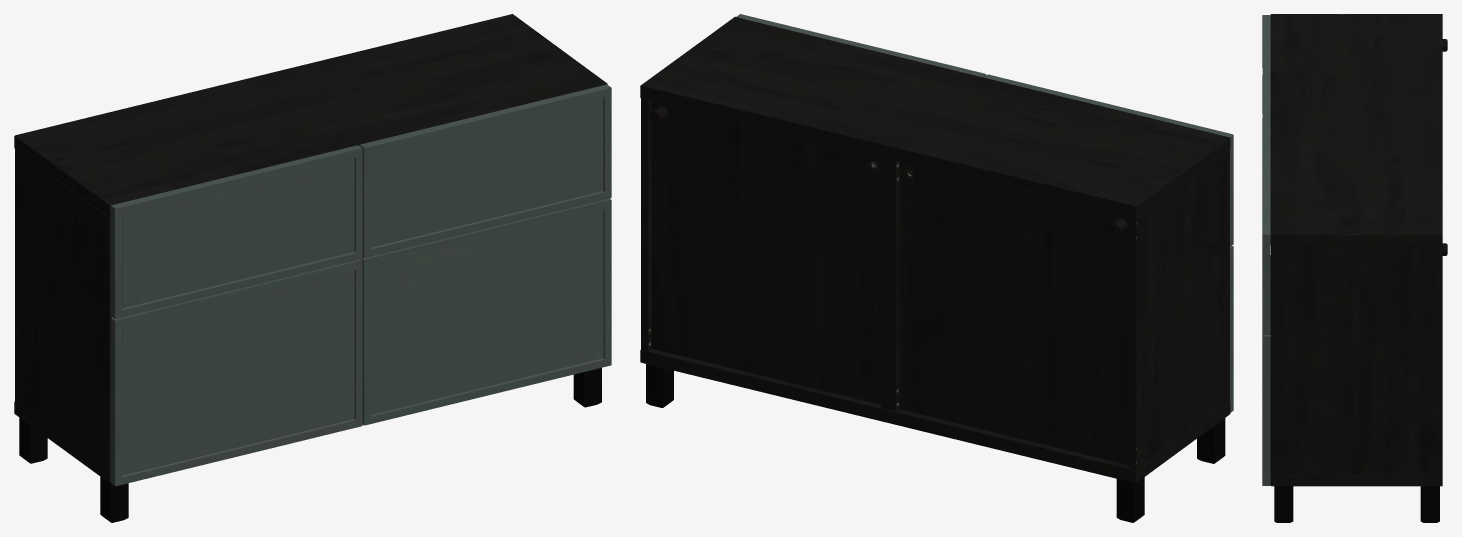
Rendered from 19 - BESTÅ Storage combination w doorsdrawers - black-brownKrukmakare dark grey-green 120x42x74 cm.glb.
3 views of the same model, side by side, from view 1: azimuth 30°, elevation 25°; view 2: azimuth 150°, elevation 25°; view 3: azimuth 270°, elevation 25° (orthographic). The views are drawn at different scales.
Parts seen in each view (by area): view 1: 79612243_storage_combination_w_doors_drawers.008, 79612243_storage_combination_w_doors_drawers.003, 79612243_storage_combination_w_doors_drawers.001, 79612243_storage_combination_w_doors_drawers.010, 79612243_storage_combination_w_doors_drawers.004; view 2: 79612243_storage_combination_w_doors_drawers.003, 79612243_storage_combination_w_doors_drawers.004, 79612243_storage_combination_w_doors_drawers.010, 79612243_storage_combination_w_doors_drawers.001, 79612243_storage_combination_w_doors_drawers.006, 79612243_storage_combination_w_doors_drawers.008; view 3: 79612243_storage_combination_w_doors_drawers.003, 79612243_storage_combination_w_doors_drawers.004, 79612243_storage_combination_w_doors_drawers.001, 79612243_storage_combination_w_doors_drawers.006, 79612243_storage_combination_w_doors_drawers.010, 79612243_storage_combination_w_doors_drawers.008.
Part boxes in pixels (x1,y1,x2,y2): 79612243_storage_combination_w_doors_drawers.008: (110,198,611,486); 79612243_storage_combination_w_doors_drawers.003: (15,14,606,482); 79612243_storage_combination_w_doors_drawers.001: (110,84,611,318); 79612243_storage_combination_w_doors_drawers.010: (19,367,601,522); 79612243_storage_combination_w_doors_drawers.004: (14,14,605,481); 79612243_storage_combination_w_doors_drawers.003: (641,16,1229,470); 79612243_storage_combination_w_doors_drawers.004: (640,17,1230,482); 79612243_storage_combination_w_doors_drawers.010: (646,364,1225,522); 79612243_storage_combination_w_doors_drawers.001: (736,14,1233,246); 79612243_storage_combination_w_doors_drawers.006: (640,59,1230,483); 79612243_storage_combination_w_doors_drawers.008: (872,163,1233,412); 79612243_storage_combination_w_doors_drawers.003: (1270,14,1442,474); 79612243_storage_combination_w_doors_drawers.004: (1270,14,1442,485); 79612243_storage_combination_w_doors_drawers.001: (1262,15,1270,334); 79612243_storage_combination_w_doors_drawers.006: (1270,14,1442,486); 79612243_storage_combination_w_doors_drawers.010: (1274,486,1439,522); 79612243_storage_combination_w_doors_drawers.008: (1262,118,1270,485).
Size of the model in its own units: 1.2 by 0.7403 by 0.4261.
1 material, 1 textured.
